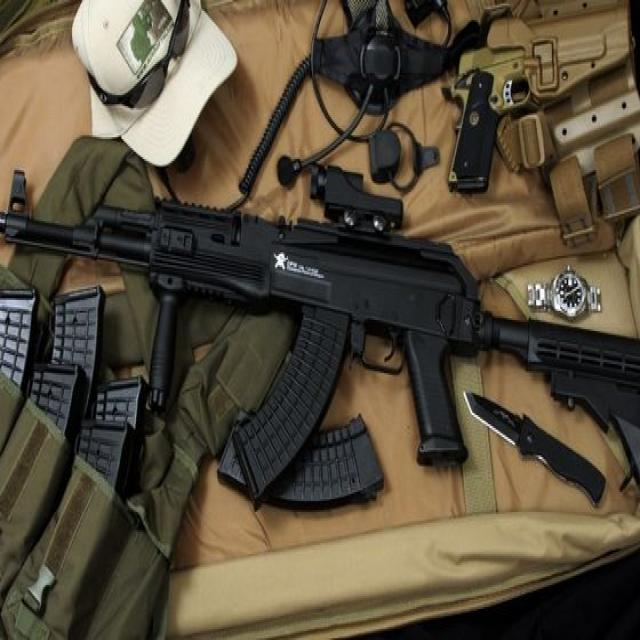firearm: (2, 168, 640, 505)
knife: (461, 389, 608, 503)
pistol: (448, 9, 630, 195)
